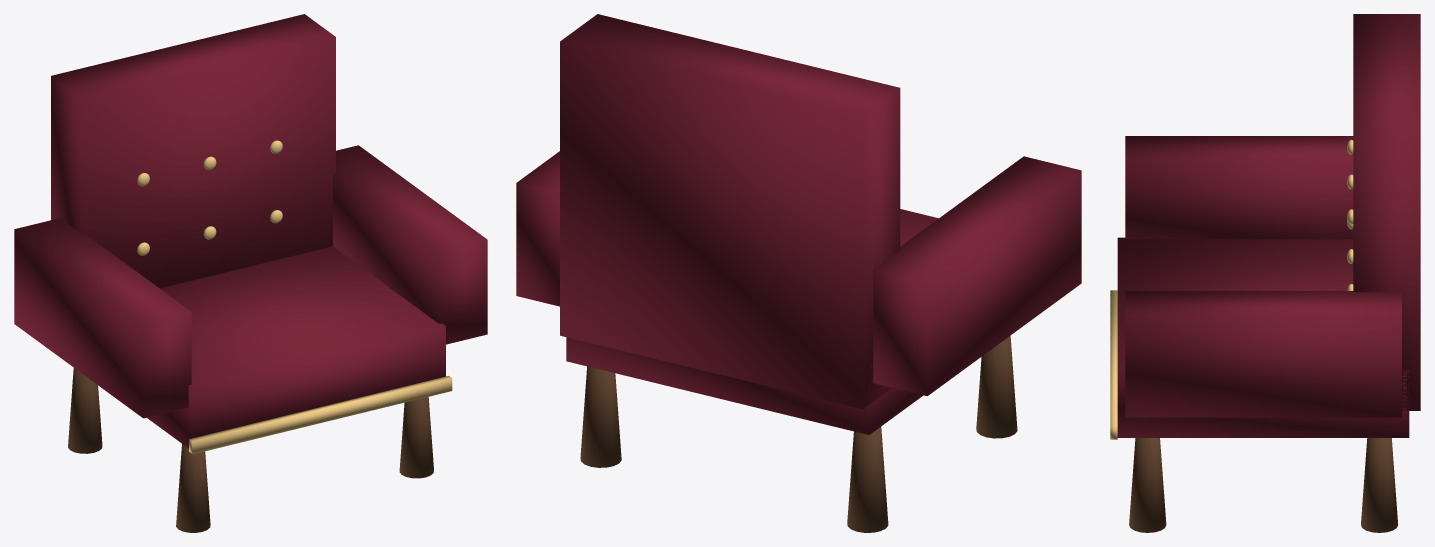
The model's file is armchair.glb.
3 renders of one model, left to right at view 1: azimuth 30°, elevation 25°; view 2: azimuth 150°, elevation 25°; view 3: azimuth 270°, elevation 25°, orthographic. The views are drawn at different scales.
Visible parts, largest first — view 1: back, seat, arm, arm.001, trim, leg, leg.002, leg.001; view 2: back, arm, seat, arm.001, leg.001, leg.003, leg; view 3: arm.001, arm, back, seat, leg.002, leg.003, trim.
Boxes of the visible parts, x1,y1,x2,y2 form: back: [51, 14, 335, 288]; seat: [147, 246, 445, 448]; arm: [14, 218, 191, 418]; arm.001: [333, 145, 487, 344]; trim: [189, 376, 452, 454]; leg: [176, 444, 210, 532]; leg.002: [399, 397, 433, 478]; leg.001: [68, 368, 102, 453]; back: [560, 14, 900, 409]; arm: [873, 156, 1081, 396]; seat: [566, 209, 938, 434]; arm.001: [516, 151, 559, 306]; leg.001: [847, 426, 888, 532]; leg.003: [580, 366, 621, 467]; leg: [976, 335, 1017, 438]; arm.001: [1125, 291, 1401, 417]; arm: [1125, 136, 1353, 239]; back: [1353, 14, 1420, 410]; seat: [1117, 237, 1409, 437]; leg.002: [1129, 438, 1166, 532]; leg.003: [1361, 438, 1398, 532]; trim: [1110, 290, 1117, 439].
Size of what is drawn, in the model's own units: 1.14 by 1.14 by 0.83.
